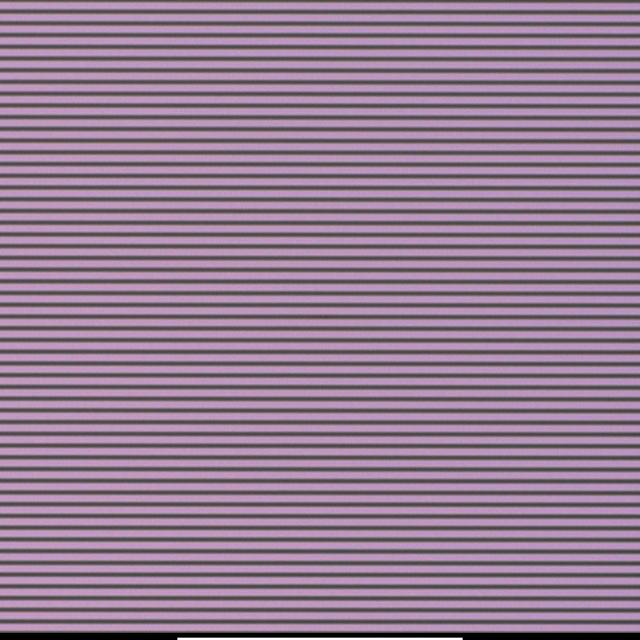03_intrusion: (321, 313, 329, 321)
